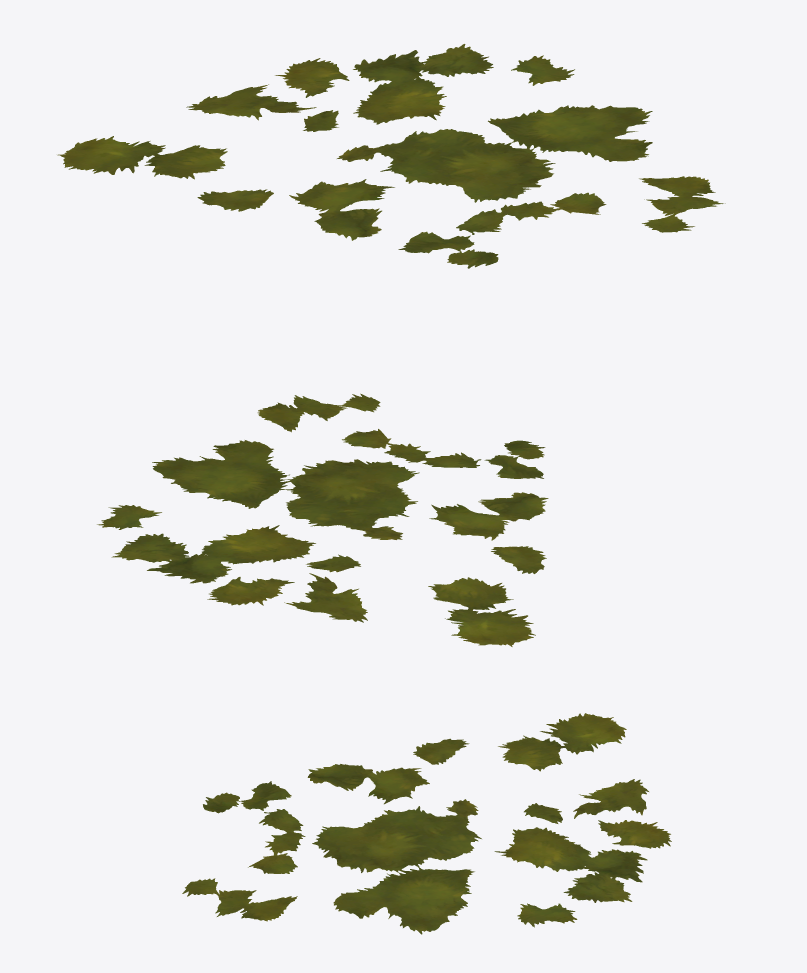
File: tussock_02.fbx
3 views of the same model, one above another, from view 1: azimuth 30°, elevation 25°; view 2: azimuth 150°, elevation 25°; view 3: azimuth 270°, elevation 25° (orthographic). The views are drawn at different scales.
Visible parts, largest first — view 1: obj0.121; view 2: obj0.121; view 3: obj0.121.
Part boxes in pixels (x1=…): obj0.121: x1=57, y1=44, x2=725, y2=268; obj0.121: x1=97, y1=393, x2=548, y2=646; obj0.121: x1=182, y1=713, x2=671, y2=934.
Bounding box in the file's own units: 10.92 × 0.1495 × 13.19.
